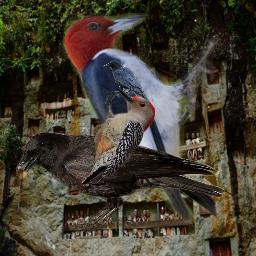Crow: (13, 131, 225, 233), (103, 60, 150, 105)
Woodpecker: (59, 7, 226, 226), (82, 89, 155, 184)
